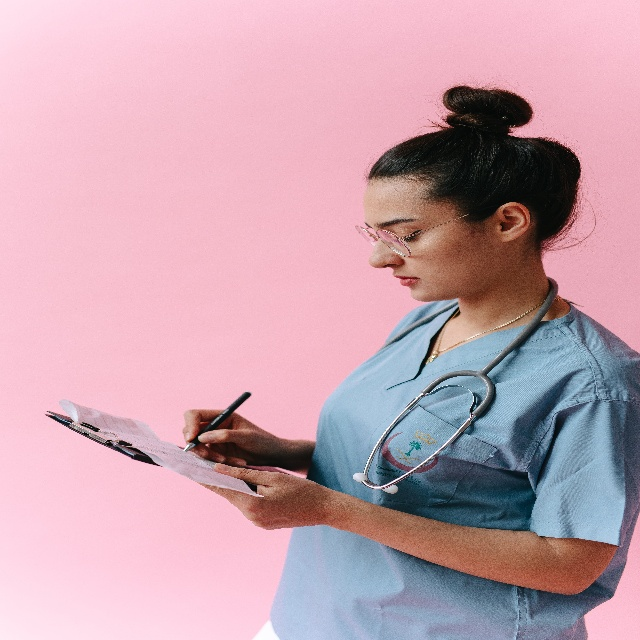Gafas: (354, 211, 470, 259)
Sin_guantes: (193, 454, 315, 532), (183, 401, 303, 466)
